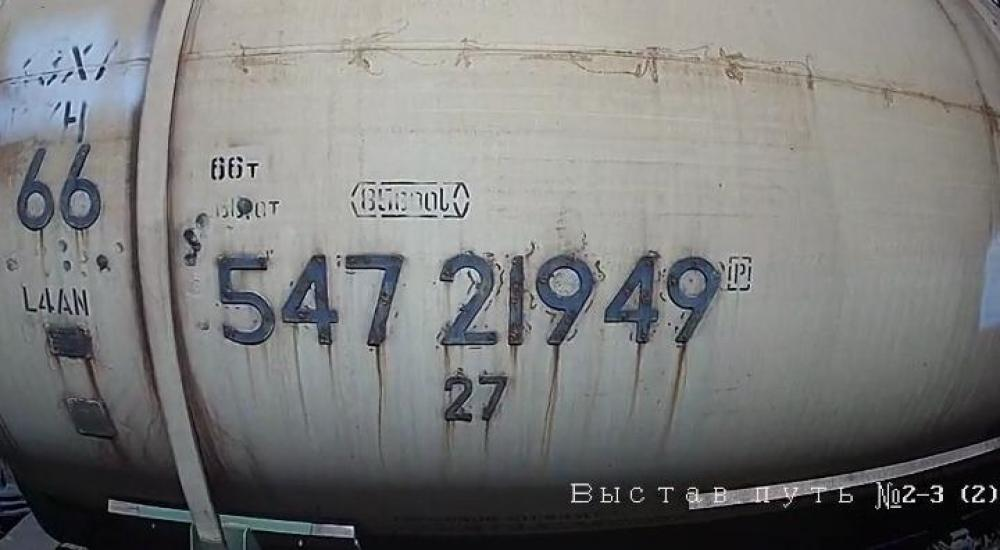Wagon-number: (211, 246, 725, 353)
